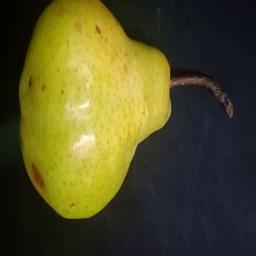Pear Semifresh: (12, 0, 238, 223)
